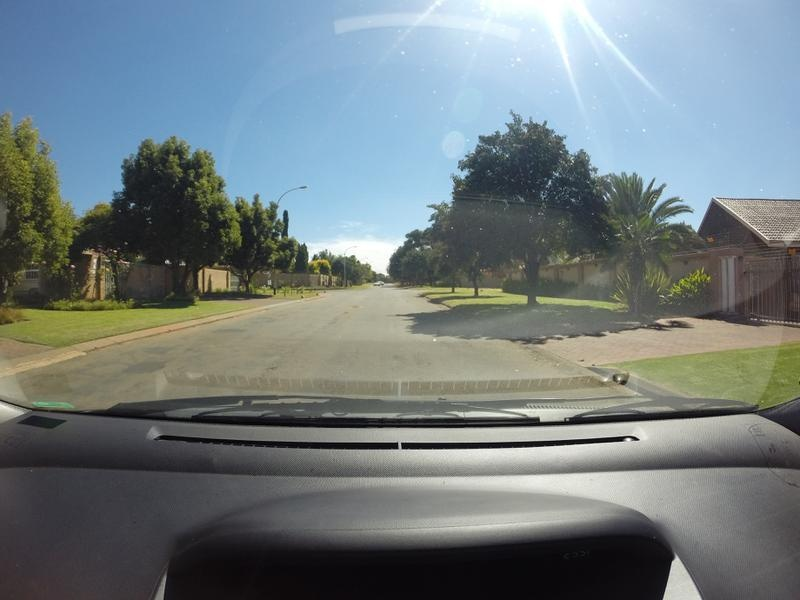pothole: (265, 362, 277, 373)
